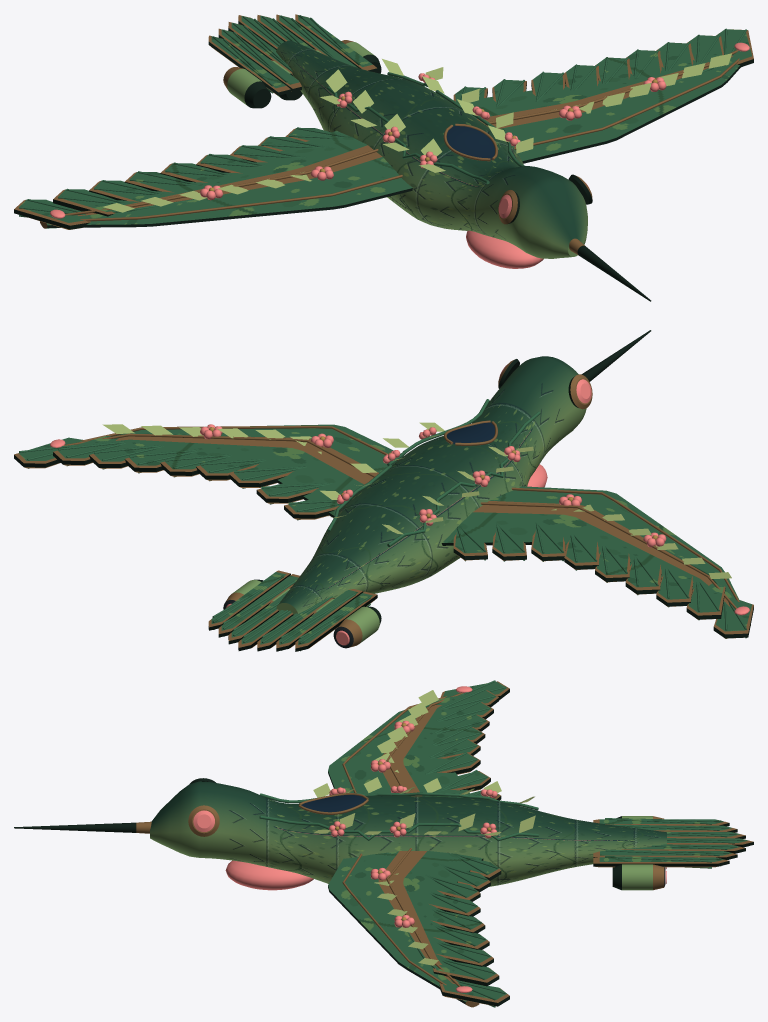
3 views of the same model, one above another, from view 1: azimuth 30°, elevation 25°; view 2: azimuth 150°, elevation 25°; view 3: azimuth 270°, elevation 25° (orthographic). The views are drawn at different scales.
Parts seen in each view (by area): view 1: hummingbird_hull; view 2: hummingbird_hull; view 3: hummingbird_hull.
Boxes of the visible parts, bbox=[...] form: hummingbird_hull: bbox=[14, 14, 753, 301]; hummingbird_hull: bbox=[14, 330, 753, 651]; hummingbird_hull: bbox=[14, 680, 753, 1007].
Size of the model in its own units: 17 by 2.47 by 16.53.
Materials: 1 (1 with a texture image).
